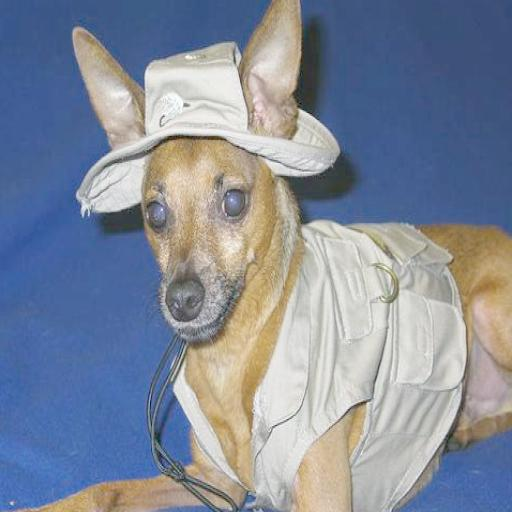dog_face: (68, 5, 298, 334)
